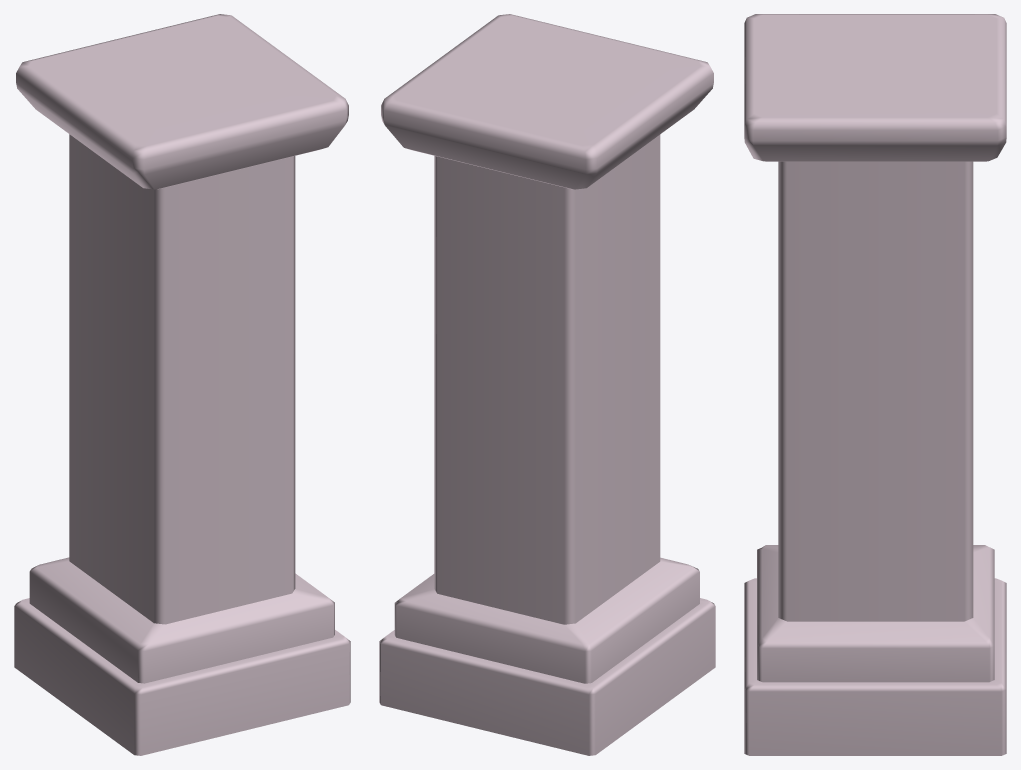
Rendered from mod_sc_roma_001_column_005.FBX.
3 renders of one model, left to right at view 1: azimuth 30°, elevation 25°; view 2: azimuth 150°, elevation 25°; view 3: azimuth 270°, elevation 25°, orthographic. The views are drawn at different scales.
Visible parts, largest first — view 1: mod_sc_roma_001_column_005; view 2: mod_sc_roma_001_column_005; view 3: mod_sc_roma_001_column_005.
Boxes of the visible parts, left/top/right/bottom form: mod_sc_roma_001_column_005: left=14, top=14, right=350, bottom=755; mod_sc_roma_001_column_005: left=379, top=14, right=715, bottom=755; mod_sc_roma_001_column_005: left=744, top=14, right=1006, bottom=755.
Size of what is drawn, in the model's own units: 150 by 400 by 150.
1 material, 1 textured.
